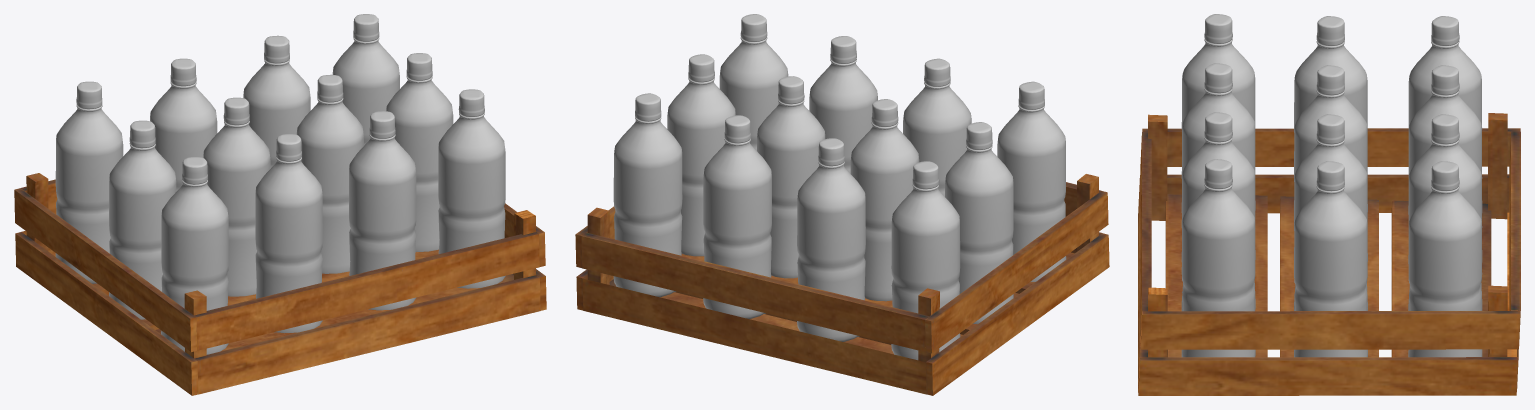
Rendered from Water.fbx.
3 renders of one model, left to right at view 1: azimuth 30°, elevation 25°; view 2: azimuth 150°, elevation 25°; view 3: azimuth 270°, elevation 25°, orthographic. The views are drawn at different scales.
Visible parts, largest first — view 1: Rack.009, WaterBottle_outer.011, WaterBottle_outer.009, WaterBottle_outer.010, WaterBottle_outer.008, WaterBottle_outer, WaterBottle_outer.004, WaterBottle_outer.005, WaterBottle_outer.006, WaterBottle_outer.007, WaterBottle_outer.001, WaterBottle_outer.002 (+1 smaller); view 2: Rack.009, WaterBottle_outer.003, WaterBottle_outer.001, WaterBottle_outer.002, WaterBottle_outer, WaterBottle_outer.004, WaterBottle_outer.008, WaterBottle_outer.005, WaterBottle_outer.006, WaterBottle_outer.007, WaterBottle_outer.009, WaterBottle_outer.010 (+1 smaller); view 3: Rack.009, WaterBottle_outer.011, WaterBottle_outer.007, WaterBottle_outer.003, WaterBottle_outer.008, WaterBottle_outer, WaterBottle_outer.004, WaterBottle_outer.009, WaterBottle_outer.001, WaterBottle_outer.005, WaterBottle_outer.010, WaterBottle_outer.002 (+1 smaller).
Part boxes in pixels (box(x1,y1,x2,y2)): Rack.009: box(14, 173, 546, 395); WaterBottle_outer.011: box(438, 89, 505, 288); WaterBottle_outer.009: box(255, 134, 322, 333); WaterBottle_outer.010: box(349, 111, 416, 310); WaterBottle_outer.008: box(161, 157, 228, 354); WaterBottle_outer: box(55, 81, 123, 283); WaterBottle_outer.004: box(109, 120, 176, 319); WaterBottle_outer.005: box(203, 97, 270, 296); WaterBottle_outer.006: box(296, 74, 363, 273); WaterBottle_outer.007: box(386, 53, 453, 251); WaterBottle_outer.001: box(150, 58, 217, 191); WaterBottle_outer.002: box(243, 35, 310, 168); Rack.009: box(575, 174, 1109, 395); WaterBottle_outer.003: box(613, 93, 682, 297); WaterBottle_outer.001: box(797, 138, 865, 341); WaterBottle_outer.002: box(703, 115, 771, 319); WaterBottle_outer: box(891, 161, 960, 360); WaterBottle_outer.004: box(945, 122, 1013, 324); WaterBottle_outer.008: box(997, 81, 1066, 281); WaterBottle_outer.005: box(850, 99, 919, 301); WaterBottle_outer.006: box(757, 76, 825, 278); WaterBottle_outer.007: box(667, 54, 735, 256); WaterBottle_outer.009: box(903, 58, 971, 196); WaterBottle_outer.010: box(809, 36, 877, 173); Rack.009: box(1138, 113, 1520, 395); WaterBottle_outer.011: box(1181, 159, 1255, 357); WaterBottle_outer.007: box(1294, 161, 1367, 357); WaterBottle_outer.003: box(1408, 161, 1482, 357); WaterBottle_outer.008: box(1181, 14, 1255, 212); WaterBottle_outer: box(1408, 16, 1482, 214); WaterBottle_outer.004: box(1294, 16, 1367, 211); WaterBottle_outer.009: box(1181, 63, 1255, 261); WaterBottle_outer.001: box(1408, 65, 1482, 263); WaterBottle_outer.005: box(1294, 65, 1367, 261); WaterBottle_outer.010: box(1181, 112, 1255, 311); WaterBottle_outer.002: box(1408, 114, 1482, 310).
Bounding box in the file's own units: 0.6471 × 0.3459 × 0.563.
